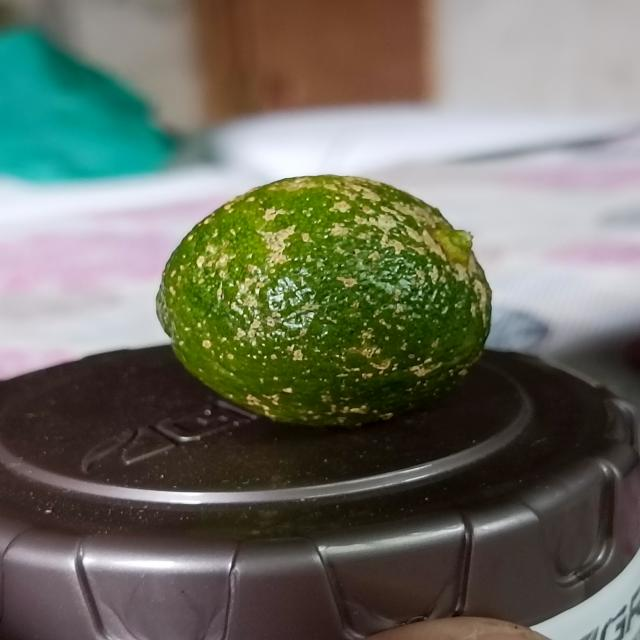scab: (148, 162, 506, 448)
